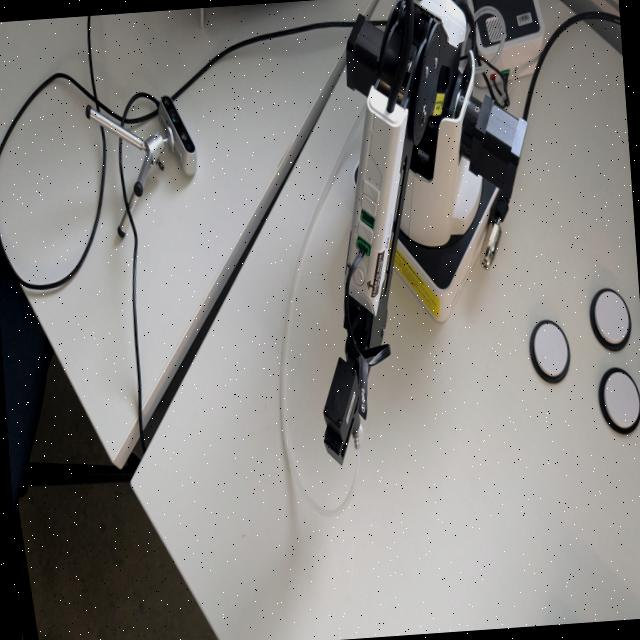Robot-end-effector-HF8z: (317, 352, 368, 470)
